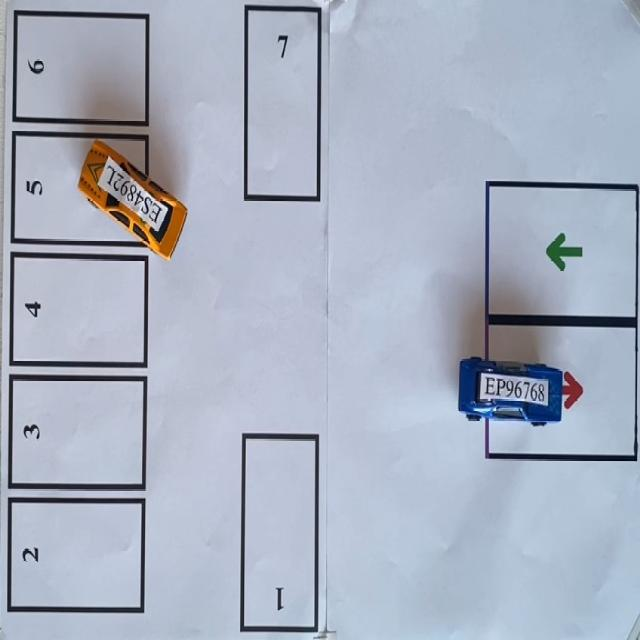car: (78, 139, 187, 259), (459, 358, 562, 426)
